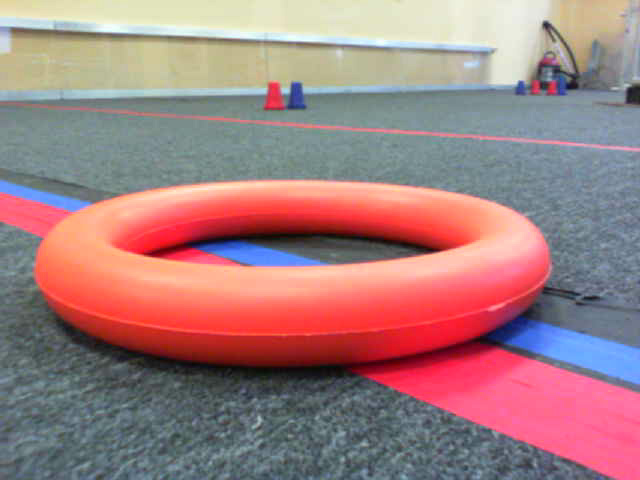Note: (35, 179, 562, 373)
